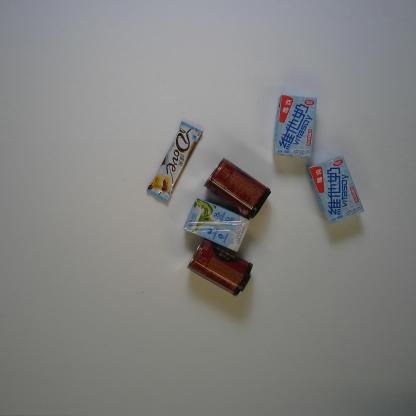Canned Food: (204, 156, 272, 220), (186, 239, 254, 296)
Chocolate: (145, 119, 204, 205)
Milk: (305, 154, 364, 226), (183, 196, 251, 254), (272, 94, 318, 158)
